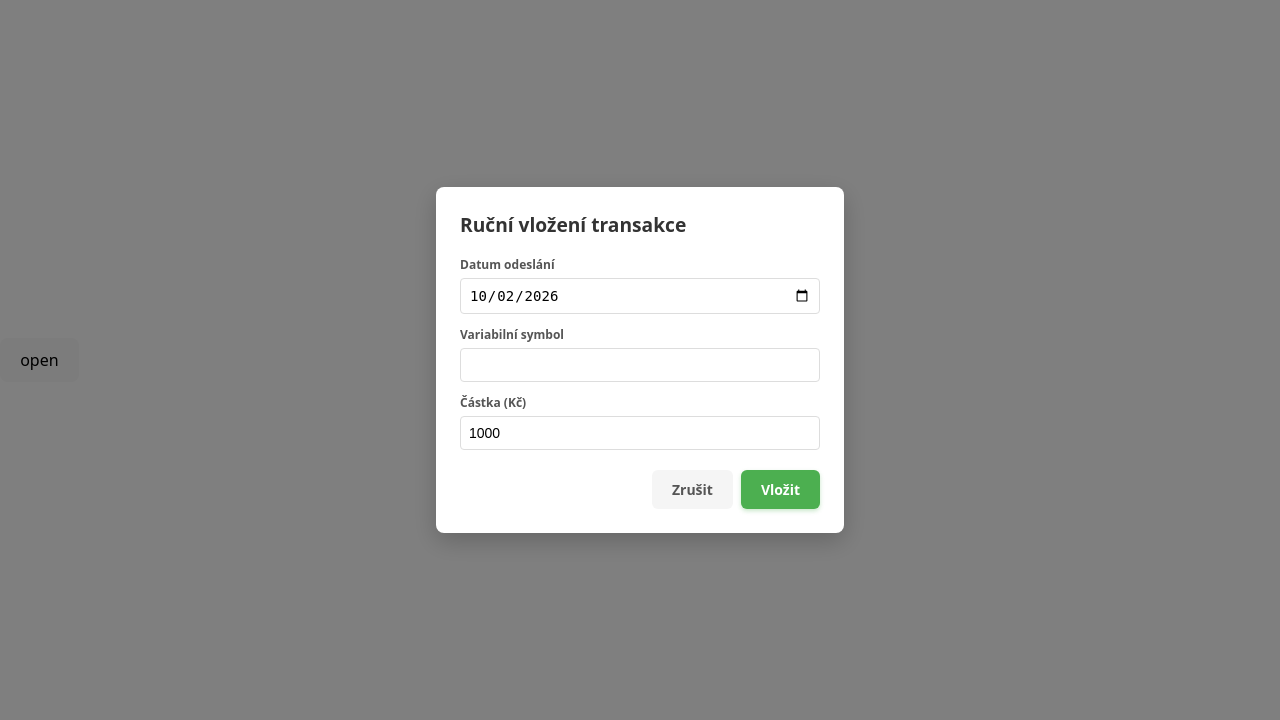
Scenario: ManualTransactionDialog › shows the server message and stays open on 409 duplicate
The width and height of the screenshot is (1280, 720).
In the field labelled "Variabilní symbol": (640, 365) [460, 348, 820, 382], type "36149"
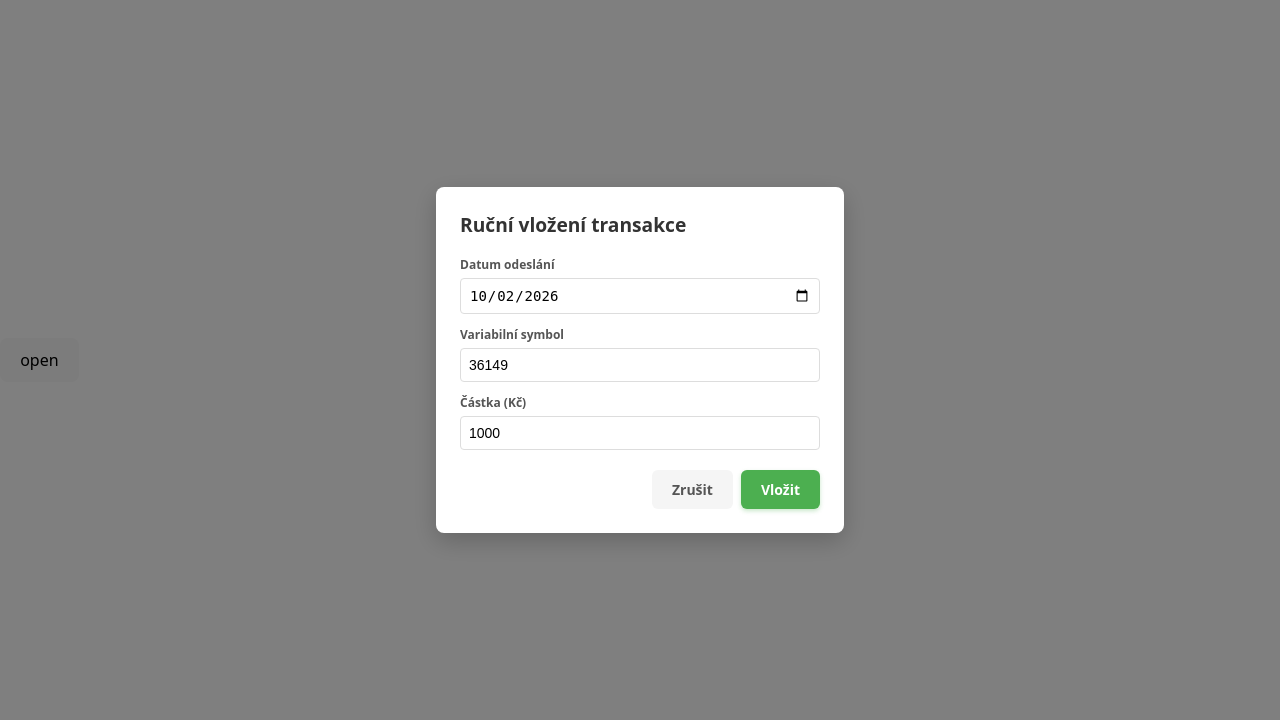
Click the button "Vložit": (780, 489) [741, 470, 820, 509]
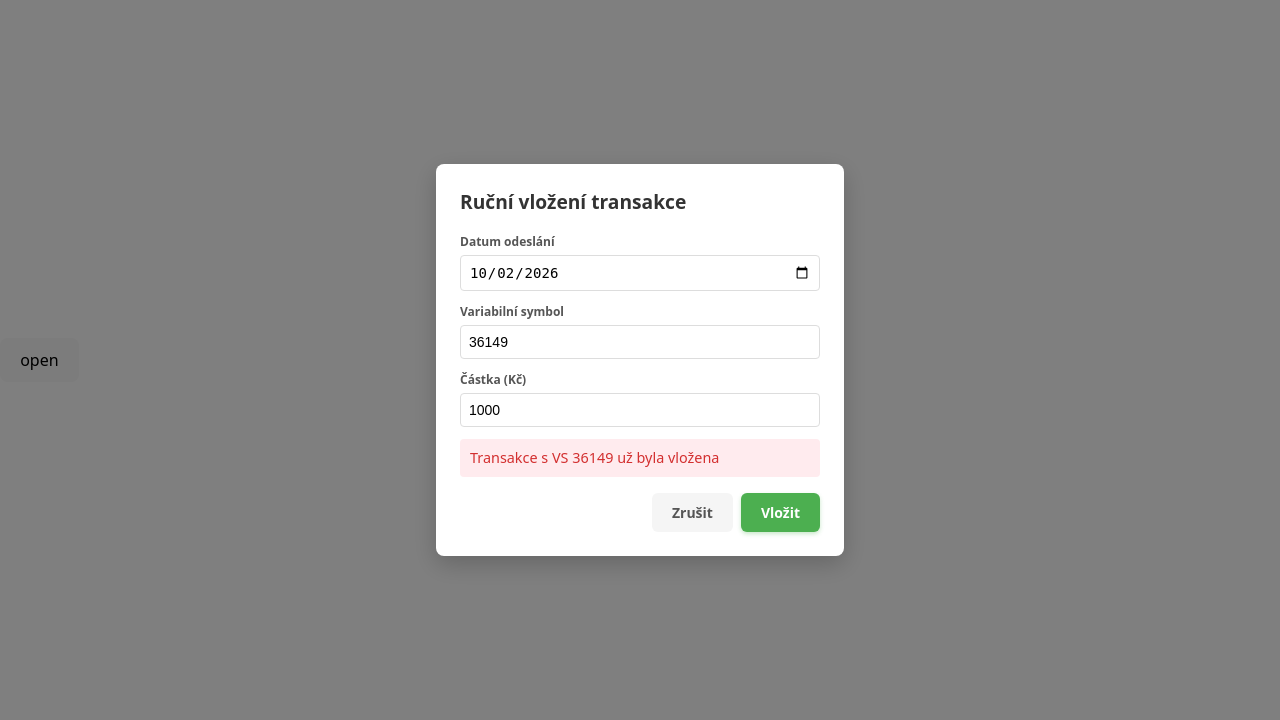
Now the message reads "Transakce s VS 36149 už byla vložena", box [470, 448, 719, 467]
Replace the text in the field labelled "Variabilní symbol" with "36157": (640, 342) [460, 325, 820, 359]
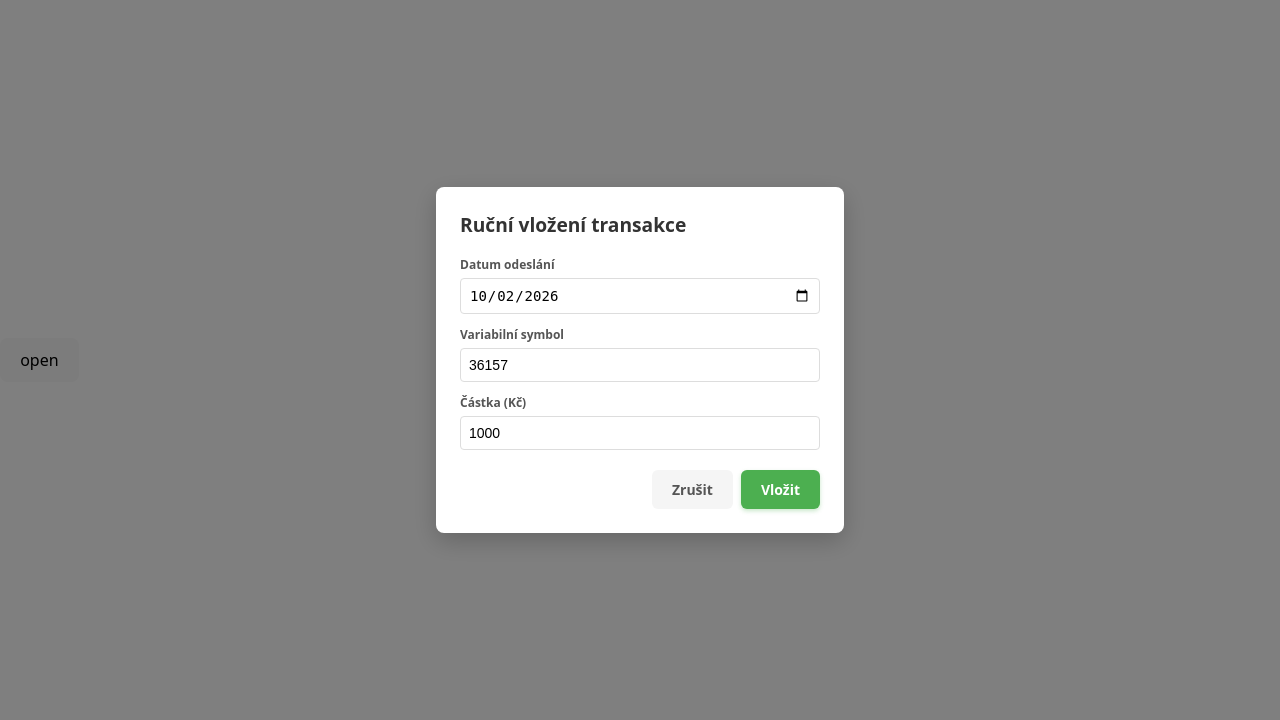
Now the message "Transakce s VS 36149 už byla vložena" is gone
